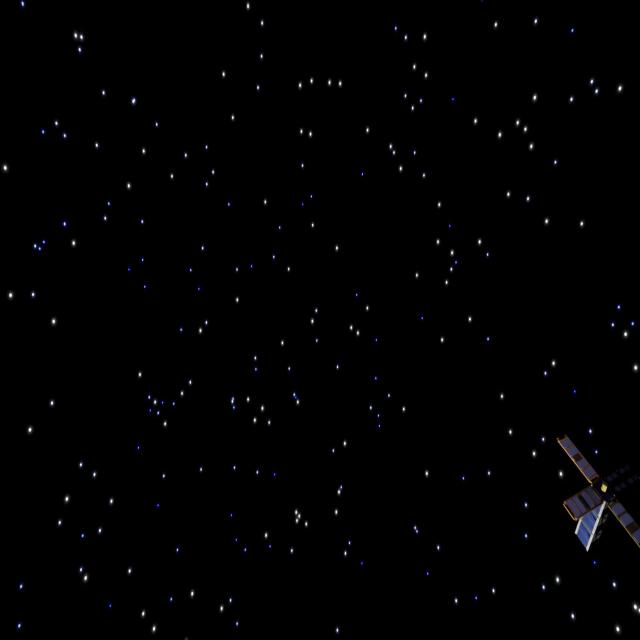medium_debris: (555, 424, 640, 561)
